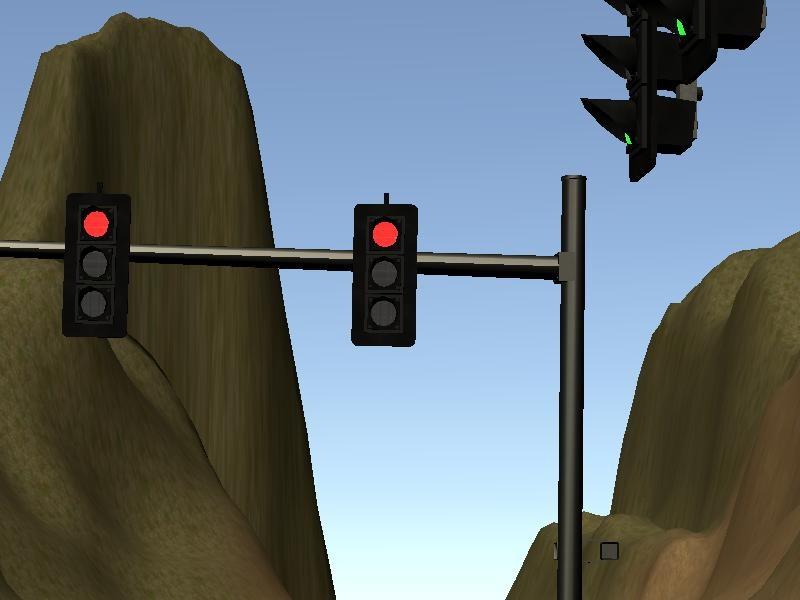red: (63, 193, 130, 339), (351, 203, 418, 347)
